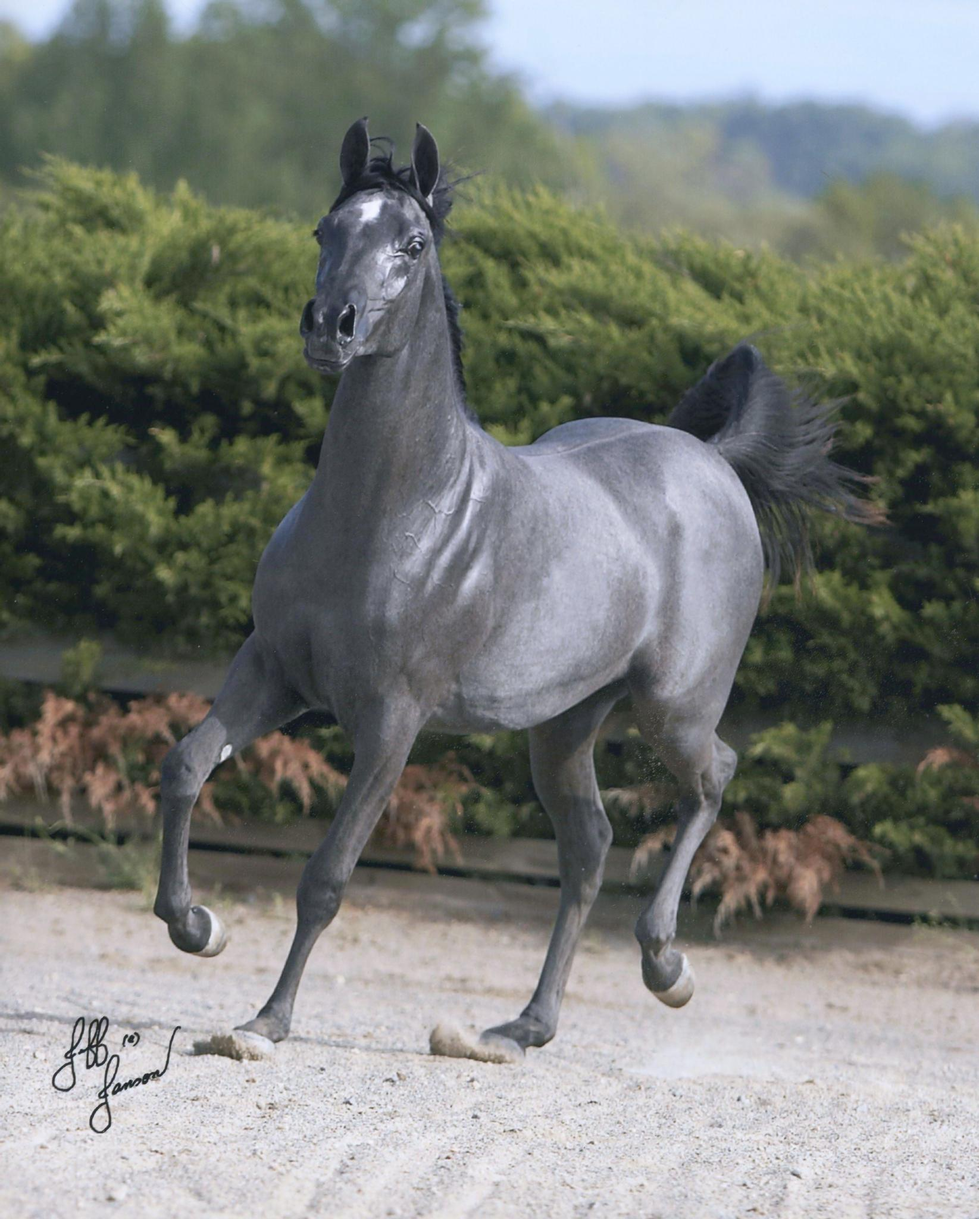horse: (151, 115, 889, 1065)
